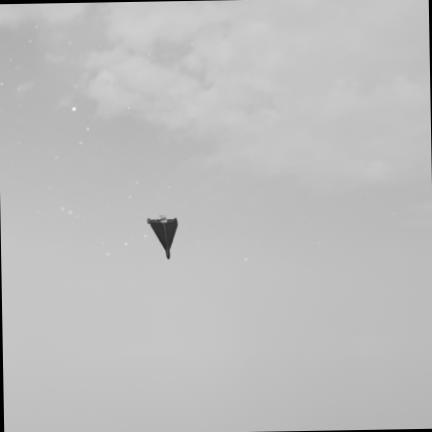Shahed: (148, 216, 177, 257)
